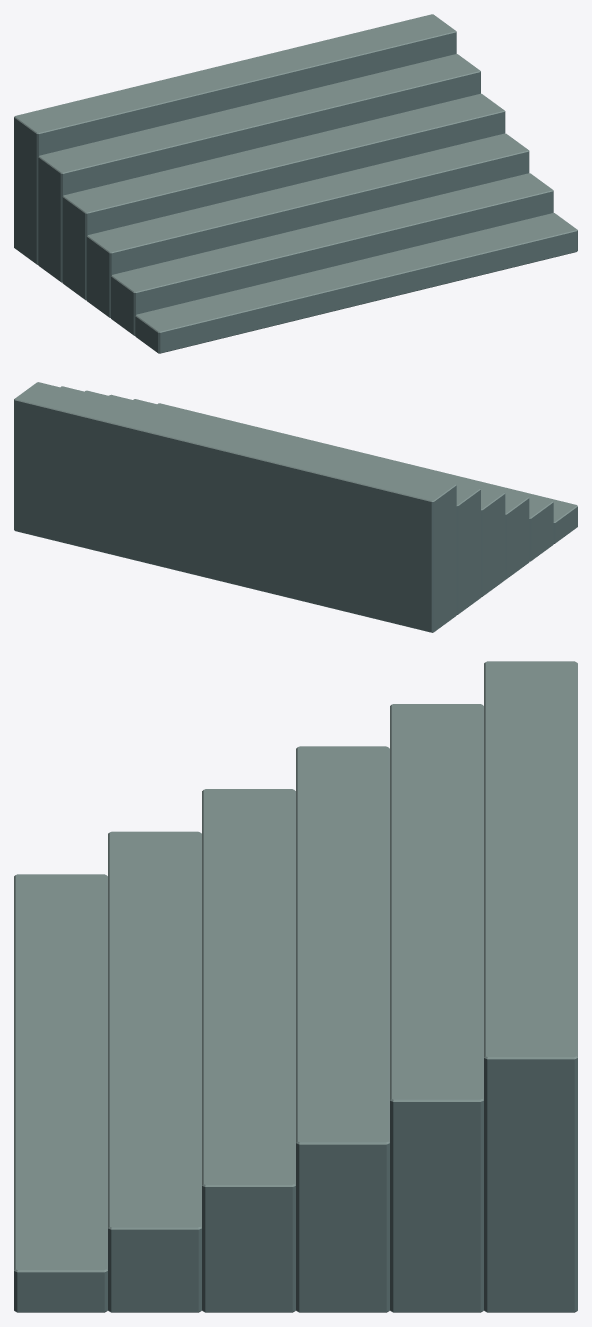
The model's file is stair-wide.glb.
3 renders of one model, top to bottom at view 1: azimuth 30°, elevation 25°; view 2: azimuth 150°, elevation 25°; view 3: azimuth 270°, elevation 25°, orthographic. The views are drawn at different scales.
Parts seen in each view (by area): view 1: stair-wide__body; view 2: stair-wide__body; view 3: stair-wide__body.
Boxes of the visible parts, x1=… form: stair-wide__body: x1=14, y1=14, x2=577, y2=353; stair-wide__body: x1=14, y1=382, x2=577, y2=632; stair-wide__body: x1=14, y1=661, x2=577, y2=1312.
Bounding box in the file's own units: 4 × 1.2 × 2.4.
